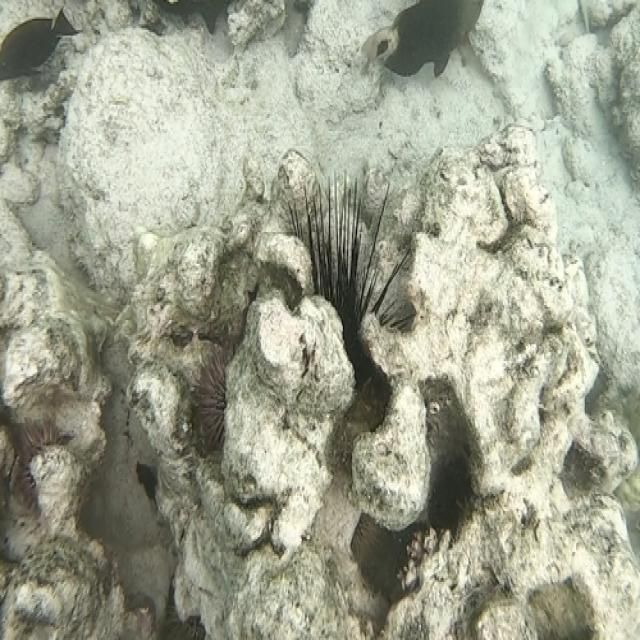Urchin: (284, 176, 419, 406)
